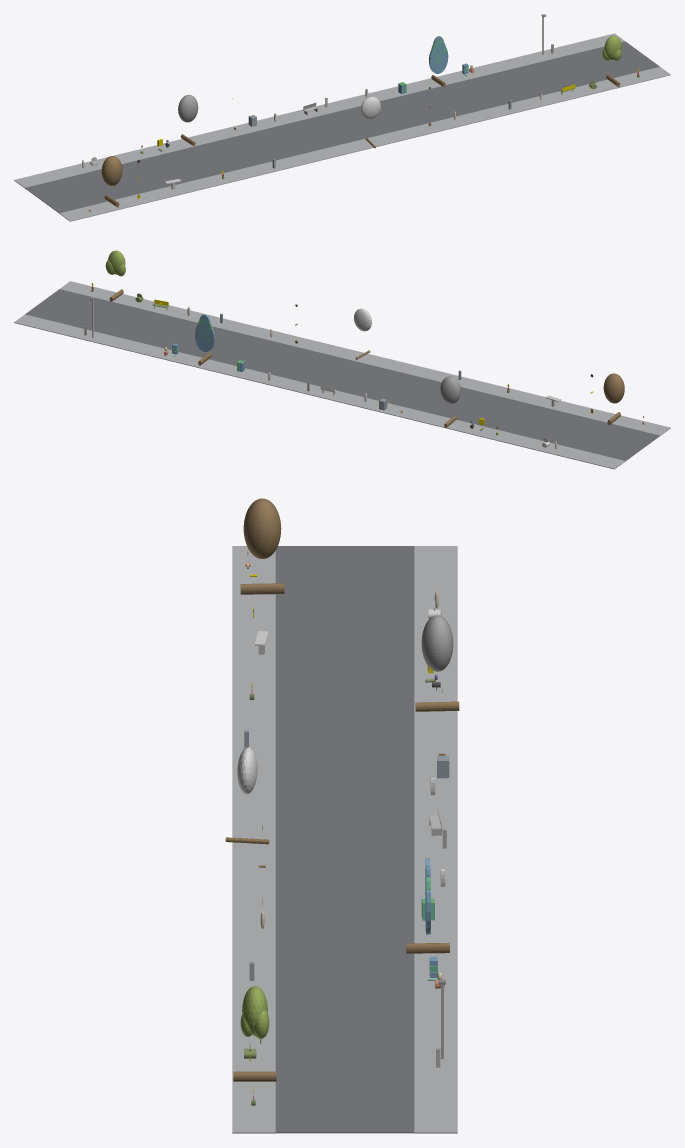
3 views of the same model, one above another, from view 1: azimuth 30°, elevation 25°; view 2: azimuth 150°, elevation 25°; view 3: azimuth 270°, elevation 25° (orthographic). The views are drawn at different scales.
Visible parts, largest first — view 1: road_slab, sidewalk_left, sidewalk_right, inst_0015, inst_0012, inst_0013, inst_0016, inst_0014; view 2: road_slab, sidewalk_right, sidewalk_left, inst_0015, inst_0012, inst_0013, inst_0016, inst_0014; view 3: road_slab, sidewalk_left, sidewalk_right, inst_0012, inst_0013, inst_0016, inst_0014, inst_0015.
Boxes of the visible parts, bbox=[...] form: road_slab: bbox=[25, 41, 659, 213]; sidewalk_left: bbox=[59, 67, 670, 221]; sidewalk_right: bbox=[14, 33, 624, 188]; inst_0015: bbox=[429, 36, 448, 87]; inst_0012: bbox=[101, 156, 122, 207]; inst_0013: bbox=[178, 94, 198, 146]; inst_0016: bbox=[602, 35, 621, 86]; inst_0014: bbox=[360, 97, 380, 148]; road_slab: bbox=[25, 289, 659, 461]; sidewalk_right: bbox=[14, 314, 625, 469]; sidewalk_left: bbox=[60, 281, 670, 435]; inst_0015: bbox=[195, 314, 214, 365]; inst_0012: bbox=[603, 373, 624, 425]; inst_0013: bbox=[440, 376, 460, 427]; inst_0016: bbox=[105, 250, 125, 301]; inst_0014: bbox=[354, 308, 371, 359]; road_slab: bbox=[275, 546, 414, 1133]; sidewalk_left: bbox=[232, 546, 275, 1133]; sidewalk_right: bbox=[414, 546, 457, 1133]; inst_0012: bbox=[240, 498, 284, 594]; inst_0013: bbox=[415, 615, 459, 711]; inst_0016: bbox=[233, 986, 276, 1081]; inst_0014: bbox=[225, 747, 269, 844]; inst_0015: bbox=[406, 858, 449, 953].
Size of the model in its own units: 80 by 6.08 by 13.47.
